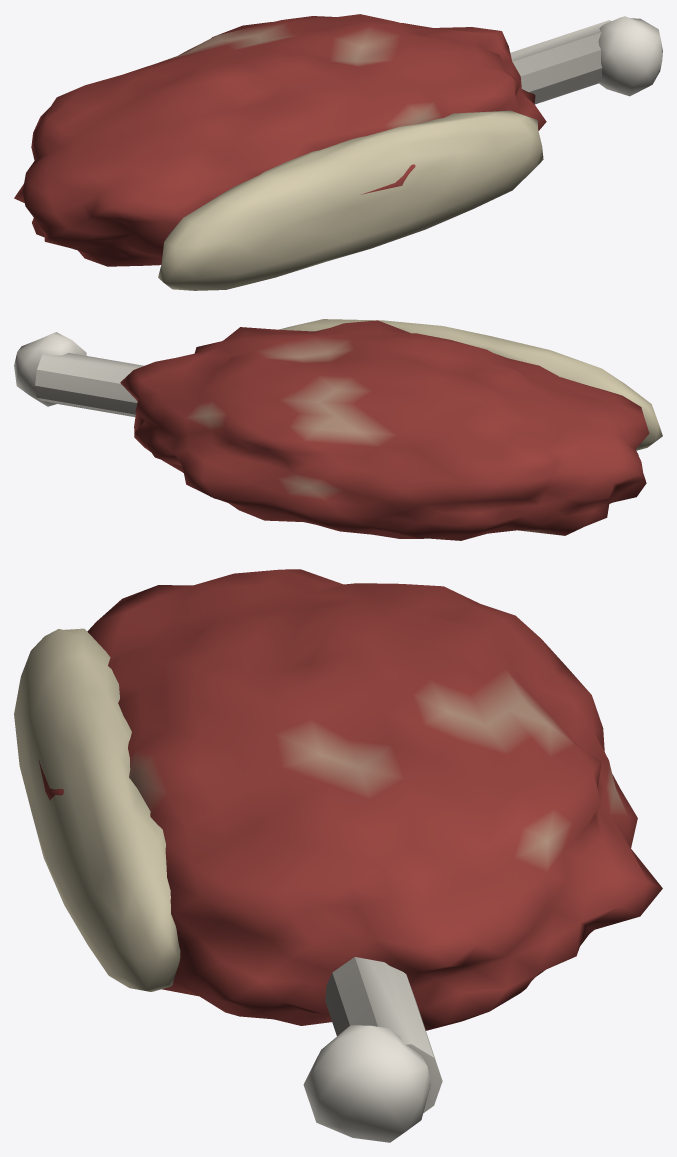
Rendered from raw-bear-meat.glb.
3 renders of one model, top to bottom at view 1: azimuth 30°, elevation 25°; view 2: azimuth 150°, elevation 25°; view 3: azimuth 270°, elevation 25°, orthographic. The views are drawn at different scales.
Visible parts, largest first — view 1: Body_lod0; view 2: Body_lod0; view 3: Body_lod0.
Boxes of the visible parts, left/top/right/bottom form: Body_lod0: left=14, top=14, right=662, bottom=290; Body_lod0: left=14, top=319, right=662, bottom=540; Body_lod0: left=14, top=569, right=662, bottom=1142.
Size of what is drawn, in the model's own units: 0.2664 by 0.0504 by 0.1473.
